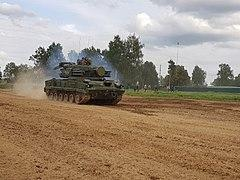tank: (43, 57, 125, 106)
